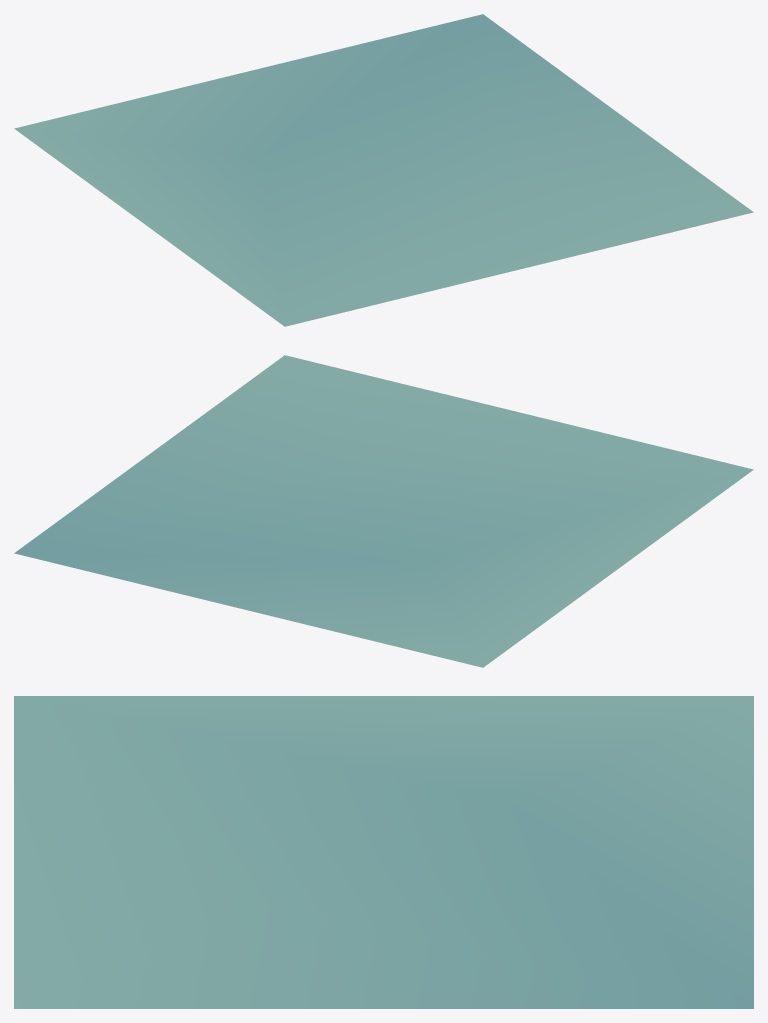
File: water-14-17.glb
3 views of the same model, one above another, from view 1: azimuth 30°, elevation 25°; view 2: azimuth 150°, elevation 25°; view 3: azimuth 270°, elevation 25° (orthographic). The views are drawn at different scales.
Bounding box in the file's own units: 16 × 0 × 16.
